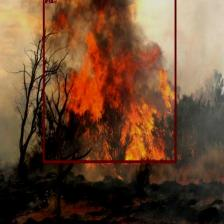fire: (42, 0, 175, 162)
